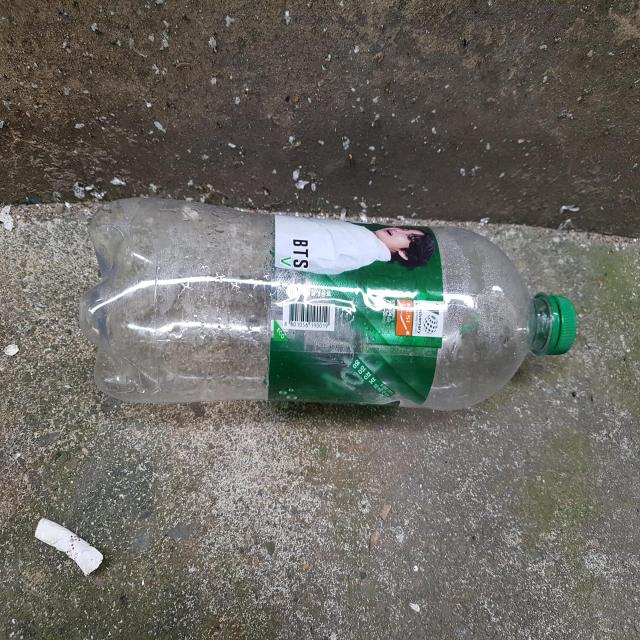plastic: (78, 197, 577, 410)
